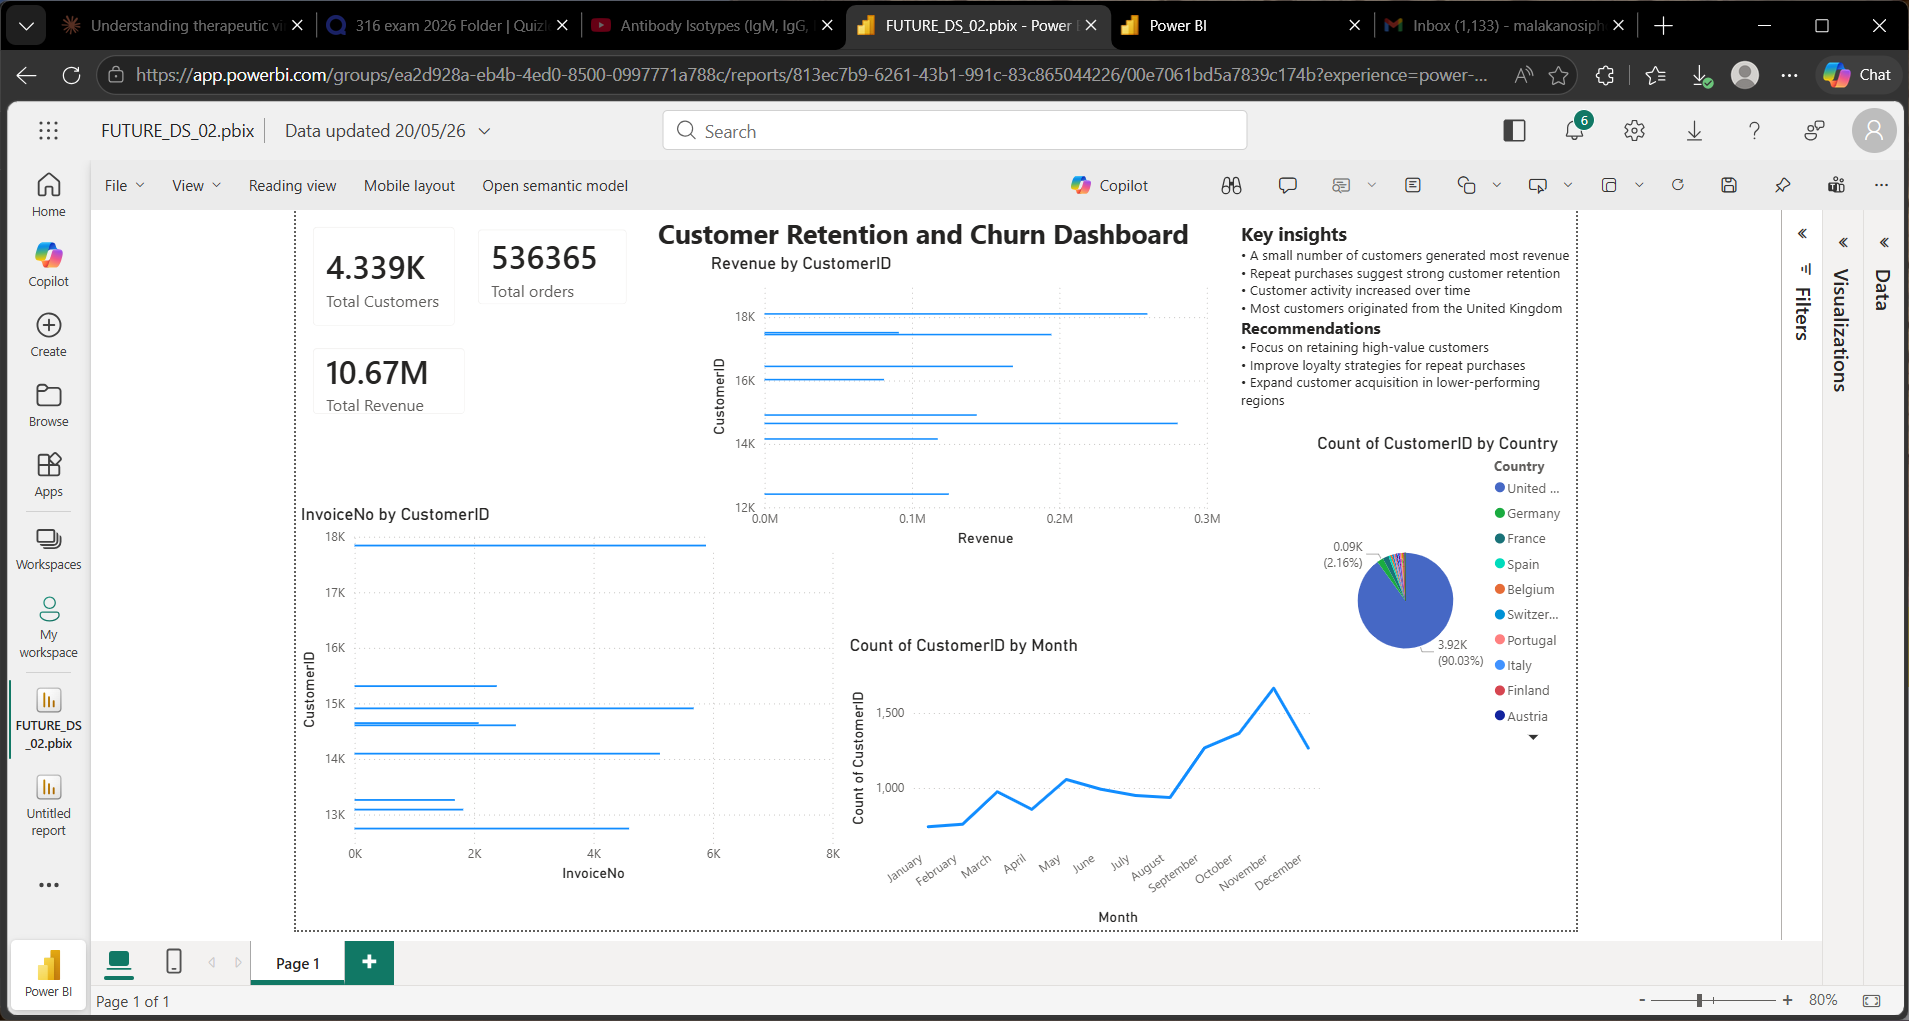

What the dashboard file says about the page in this screenshot:
{"tool":"powerbi","page":{"name":"Page 1","canvas":[1280,720],"ordinal":0},"visuals":[{"type":"textbox","box":[137.1,0,979.8,56.8],"z":0},{"type":"cardVisual","fields":{"Data":["Count(online_retail 1.CustomerID)"]},"box":[0,0,182.4,133.2],"z":1},{"type":"cardVisual","fields":{"Data":["Sum(online_retail 1.Revenue)"]},"box":[0,111.6,164.4,100.8],"z":2},{"type":"cardVisual","fields":{"Data":["Min(online_retail 1.InvoiceNo)"]},"box":[164.4,2.4,183.6,109.2],"z":3},{"type":"clusteredBarChart","fields":{"Y":["CountNonNull(online_retail 1.InvoiceNo)"],"Category":["online_retail 1.CustomerID"]},"box":[8.4,313.2,508.8,382.8],"z":4},{"type":"clusteredBarChart","fields":{"Category":["online_retail 1.CustomerID"],"Y":["Sum(online_retail 1.Revenue)"]},"box":[410.4,42,519.6,289.2],"z":5},{"type":"lineChart","fields":{"Category":["online_retail 1.InvoiceDate.Variation.Date Hierarchy.Year","online_retail 1.InvoiceDate.Variation.Date Hierarchy.Quarter","online_retail 1.InvoiceDate.Variation.Date Hierarchy.Month","online_retail 1.InvoiceDate.Variation.Date Hierarchy.Day"],"Y":["Count(online_retail 1.CustomerID)"]},"box":[517.2,400.8,482.4,295.2],"z":6},{"type":"pieChart","fields":{"Category":["online_retail 1.Country"],"Y":["Count(online_retail 1.CustomerID)"]},"box":[940.8,222,339.6,261.6],"z":7},{"type":"textbox","box":[939.6,6,340.8,216],"z":8}]}

Visuals, with their boxes on the page's 1280x720 design canvas (x1, y1, x2, y2). These are canvas units, not pixel positions in the 1909x1021 screenshot, which may show the page scaled, cropped or inside an application window:
textbox: pyautogui.locateOnScreen(137, 0, 1117, 57)
cardVisual - Count(online_retail 1.CustomerID): pyautogui.locateOnScreen(0, 0, 182, 133)
cardVisual - Sum(online_retail 1.Revenue): pyautogui.locateOnScreen(0, 112, 164, 212)
cardVisual - Min(online_retail 1.InvoiceNo): pyautogui.locateOnScreen(164, 2, 348, 112)
clusteredBarChart - CountNonNull(online_retail 1.InvoiceNo) x online_retail 1.CustomerID: pyautogui.locateOnScreen(8, 313, 517, 696)
clusteredBarChart - online_retail 1.CustomerID x Sum(online_retail 1.Revenue): pyautogui.locateOnScreen(410, 42, 930, 331)
lineChart - online_retail 1.InvoiceDate.Variation.Date Hierarchy.Year x online_retail 1.InvoiceDate.Variation.Date Hierarchy.Quarter: pyautogui.locateOnScreen(517, 401, 1000, 696)
pieChart - online_retail 1.Country x Count(online_retail 1.CustomerID): pyautogui.locateOnScreen(941, 222, 1280, 484)
textbox: pyautogui.locateOnScreen(940, 6, 1280, 222)
